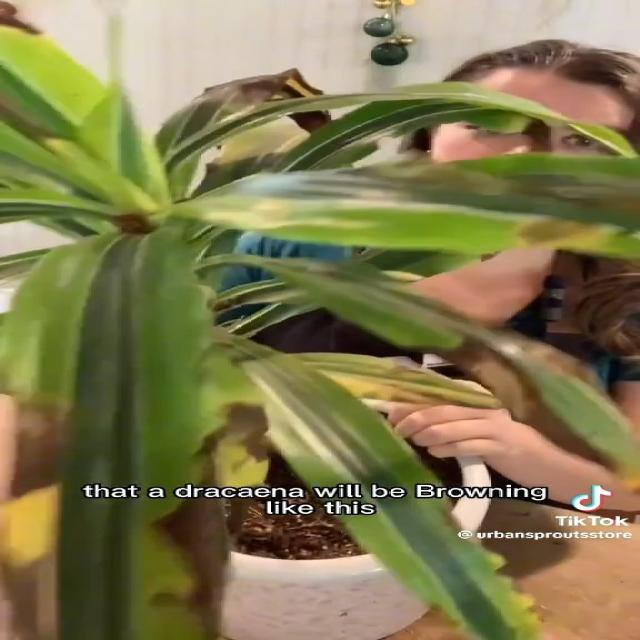lisc_suchy: (0, 231, 227, 640), (193, 254, 632, 459), (178, 157, 640, 260), (0, 8, 181, 238), (156, 68, 331, 201), (189, 352, 300, 488), (286, 353, 497, 406)
roslina_sucha: (0, 0, 640, 640)
